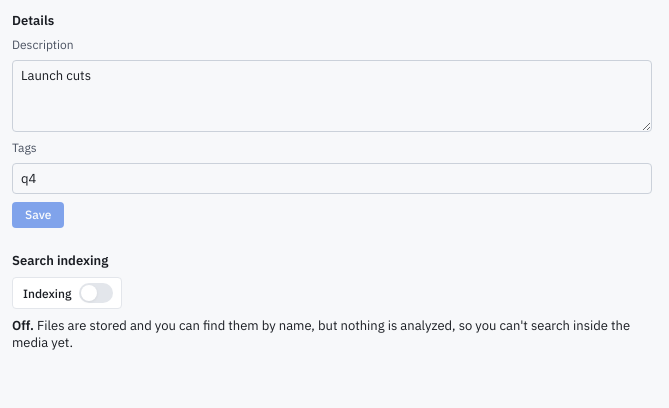
ProjectSettings › owner edits description and tags
Expected: the button "Save" is disabled, [12, 202, 64, 228]
Replace the text in the text box labelled "Description" with " New " at (332, 96), box [12, 60, 652, 132]
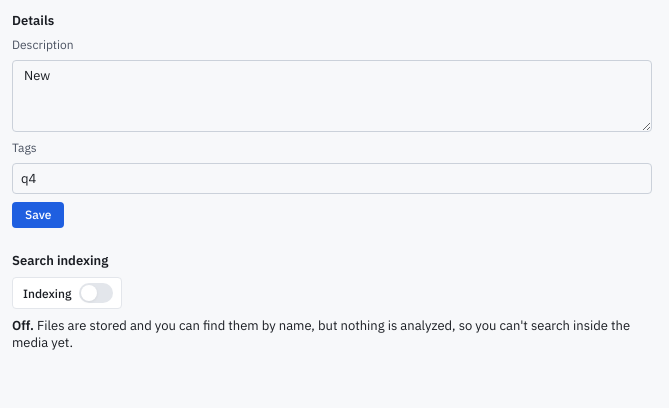
Replace the text in the field labelled "Tags" with "a, b," at (332, 178), box [12, 163, 652, 194]
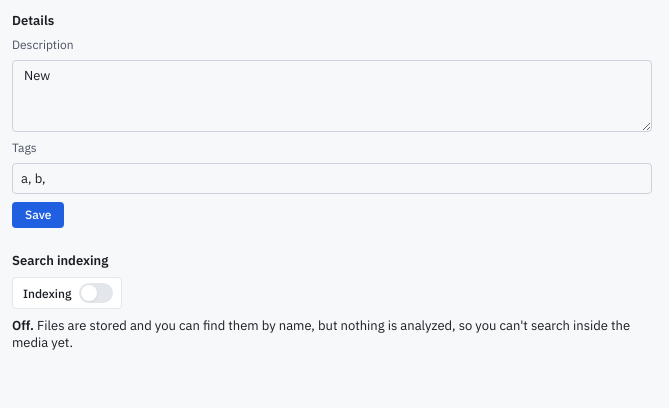
Click the button "Save" at (38, 215), box [12, 202, 64, 228]
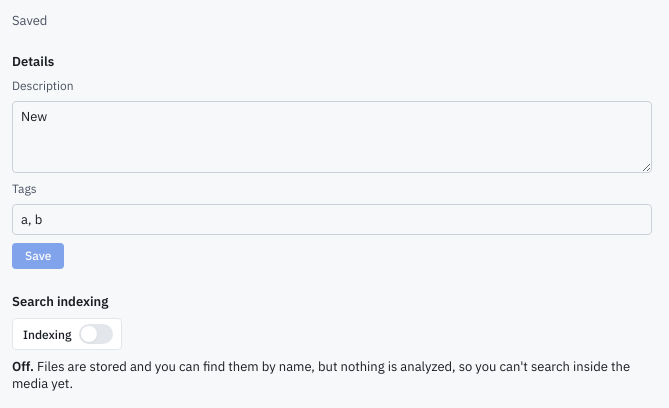
Expected: the text "Saved" is shown, [12, 12, 47, 29]
